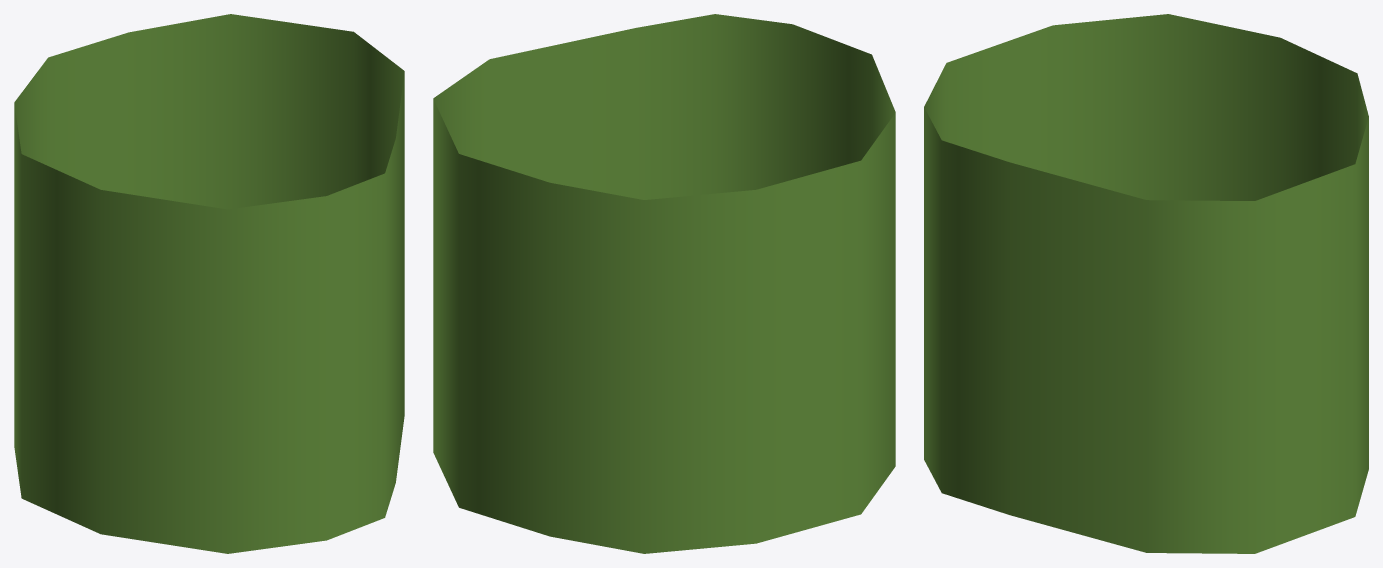
Rendered from grass_01_bottom.fbx.
3 renders of one model, left to right at view 1: azimuth 30°, elevation 25°; view 2: azimuth 150°, elevation 25°; view 3: azimuth 270°, elevation 25°, orthographic. The views are drawn at different scales.
Parts seen in each view (by area): view 1: grass; view 2: grass; view 3: grass.
Part boxes in pixels (x1,y1,x2,y2): grass: [14, 14, 404, 553]; grass: [433, 14, 895, 553]; grass: [924, 14, 1368, 553].
Size of the model in its own units: 11376 by 10000 by 11427.
